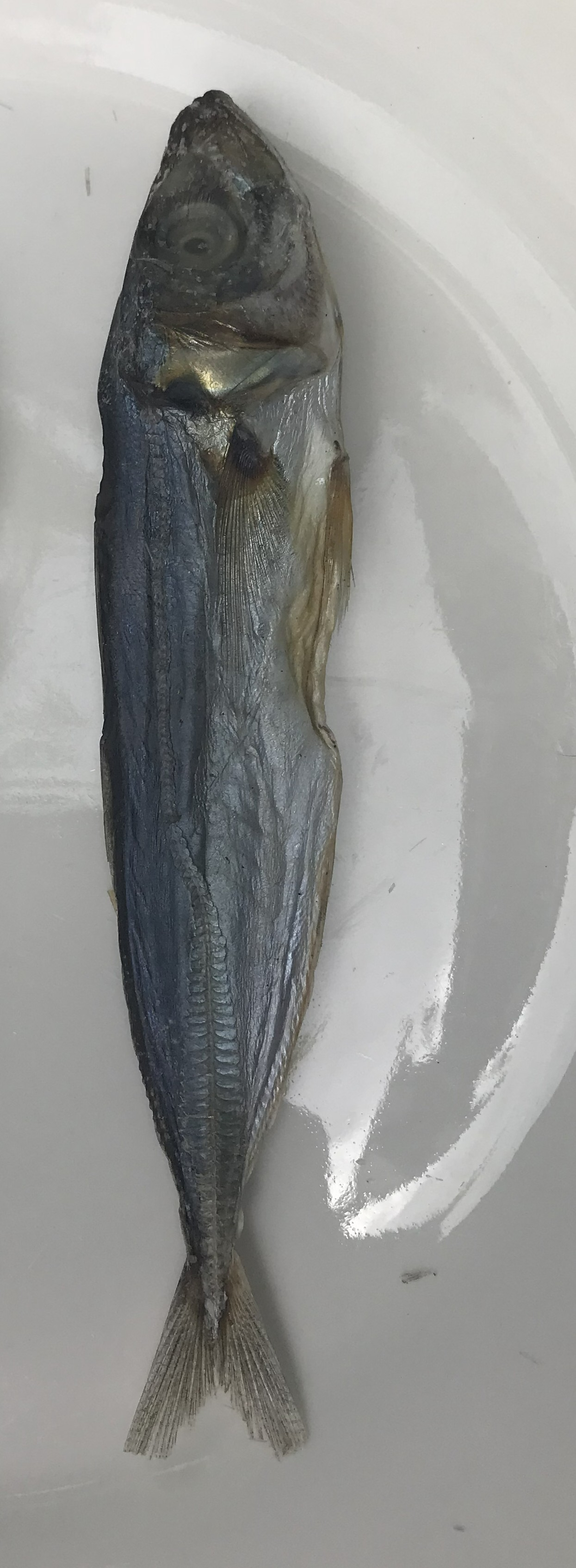burot_dried_: (94, 90, 365, 1461)
